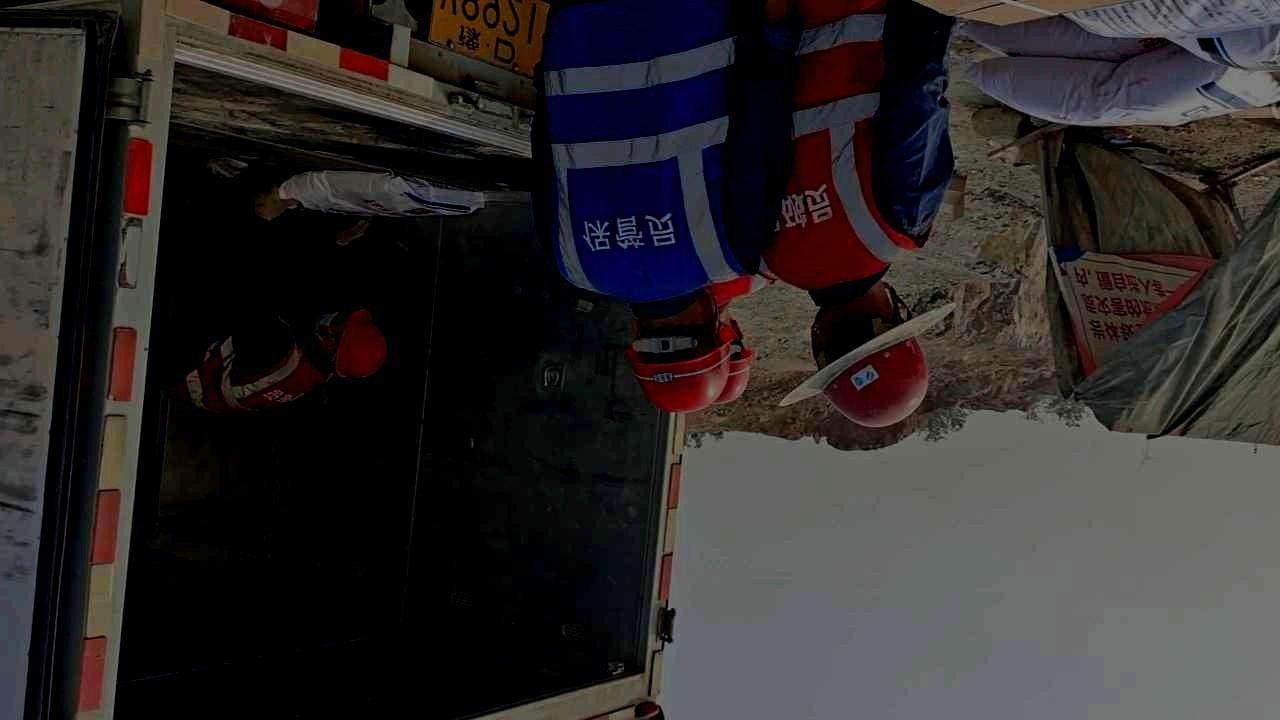helmet: (809, 279, 929, 428), (626, 290, 735, 414), (314, 306, 386, 379), (712, 308, 754, 405)
